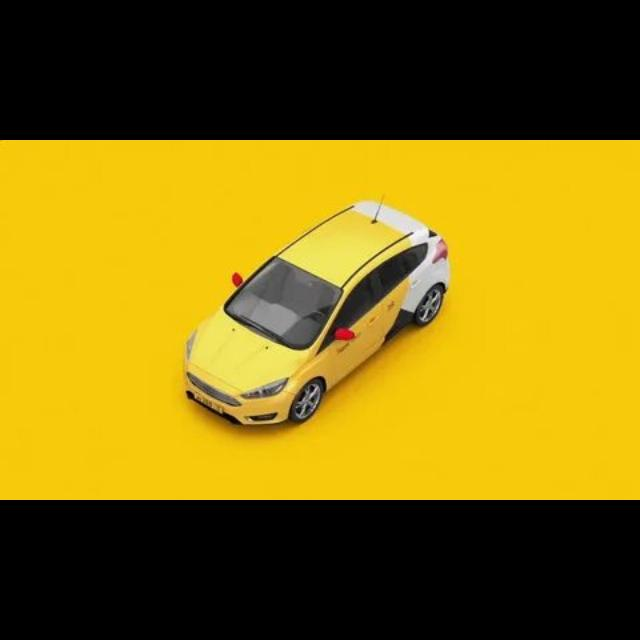taxi: (182, 193, 450, 427)
